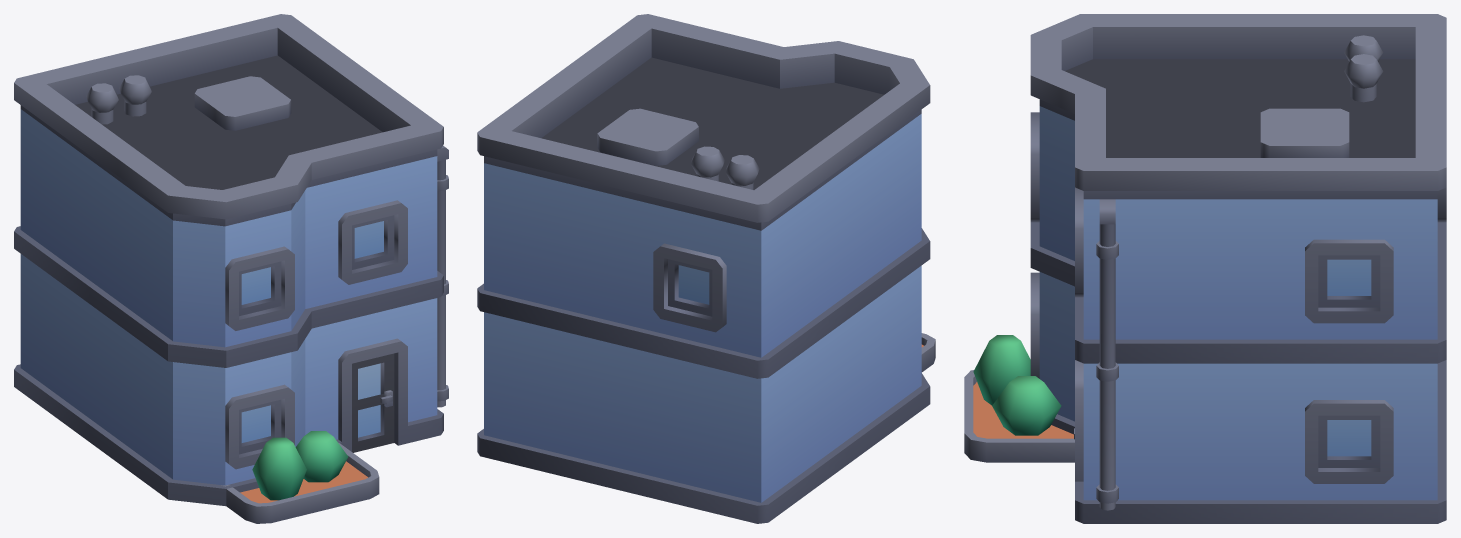
File: building-c.glb
The picture shows the model from 3 angles, left to right: view 1: azimuth 30°, elevation 25°; view 2: azimuth 150°, elevation 25°; view 3: azimuth 270°, elevation 25°; orthographic projection. The views are drawn at different scales.
Parts seen in each view (by area): view 1: building-c; view 2: building-c; view 3: building-c.
Part boxes in pixels (bbox=[...]): building-c: bbox=[14, 14, 448, 523]; building-c: bbox=[477, 14, 935, 523]; building-c: bbox=[964, 14, 1446, 523].
Bounding box in the file's own units: 0.8836 × 0.893 × 1.09.
1 material, 1 textured.
